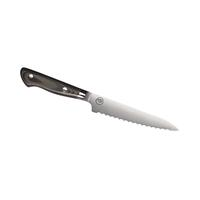knife: (15, 64, 183, 136)
